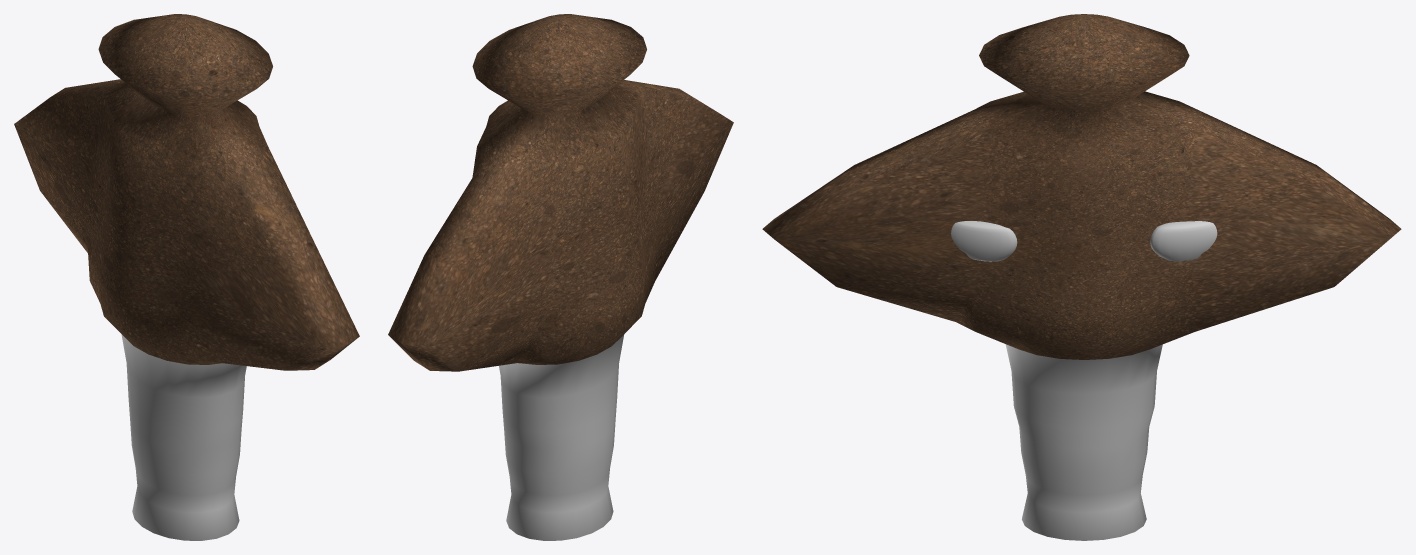
File: mushroom.fbx
The picture shows the model from 3 angles, left to right: view 1: azimuth 30°, elevation 25°; view 2: azimuth 150°, elevation 25°; view 3: azimuth 270°, elevation 25°; orthographic projection.
Visible parts, largest first — view 1: pSphere1; view 2: pSphere1; view 3: pSphere1, pSphere4.
Part boxes in pixels (x1,y1,x2,y2): pSphere1: (14, 14, 359, 540); pSphere1: (388, 14, 733, 540); pSphere1: (762, 14, 1401, 540); pSphere4: (951, 221, 1217, 261).
Bounding box in the file's own units: 0.8615 × 2.88 × 3.27.
